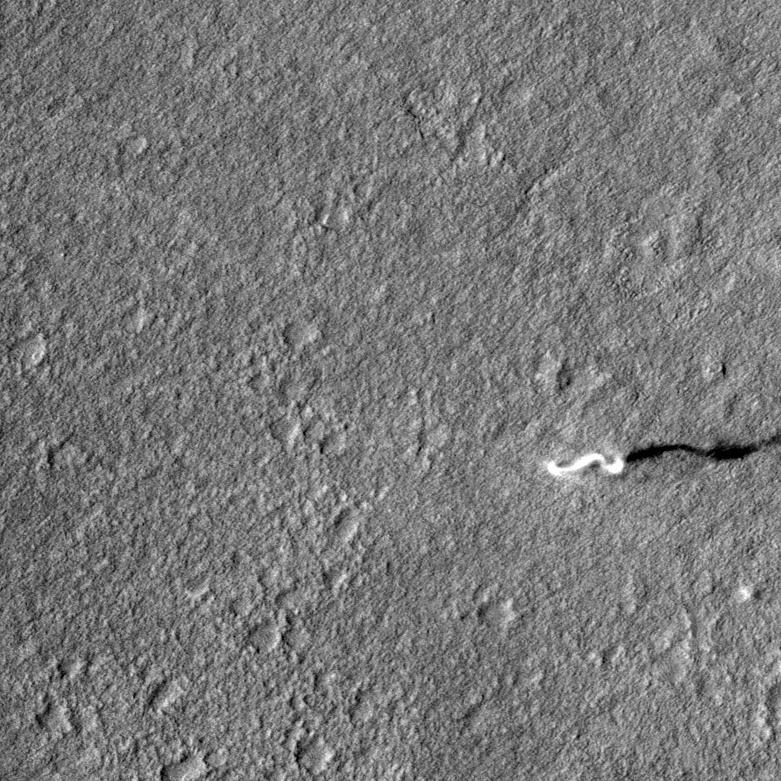dust_devil: (543, 431, 781, 481)
